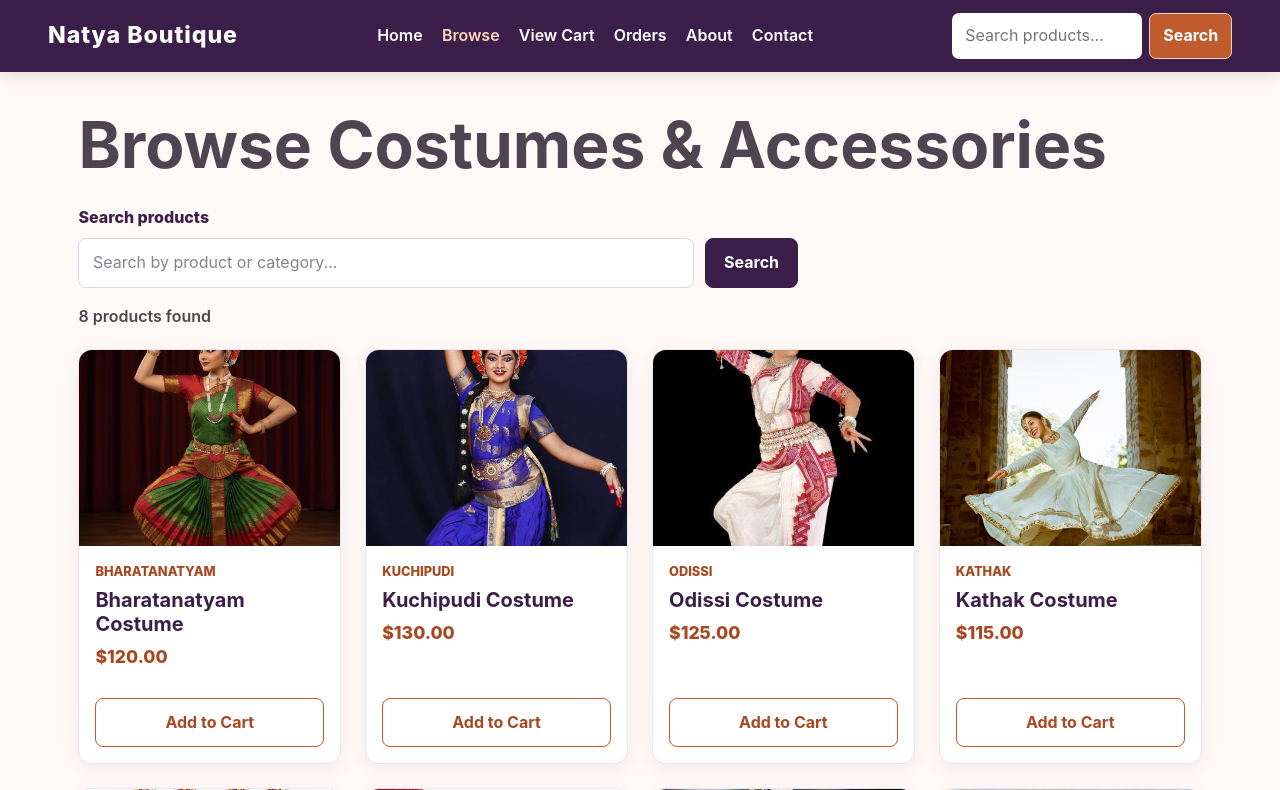
Test: Natya Boutique › filters products and explains an empty result
Type "not-a-product" into the search field with placeholder "Search by product or category..." at (386, 263), box [78,238,694,288]
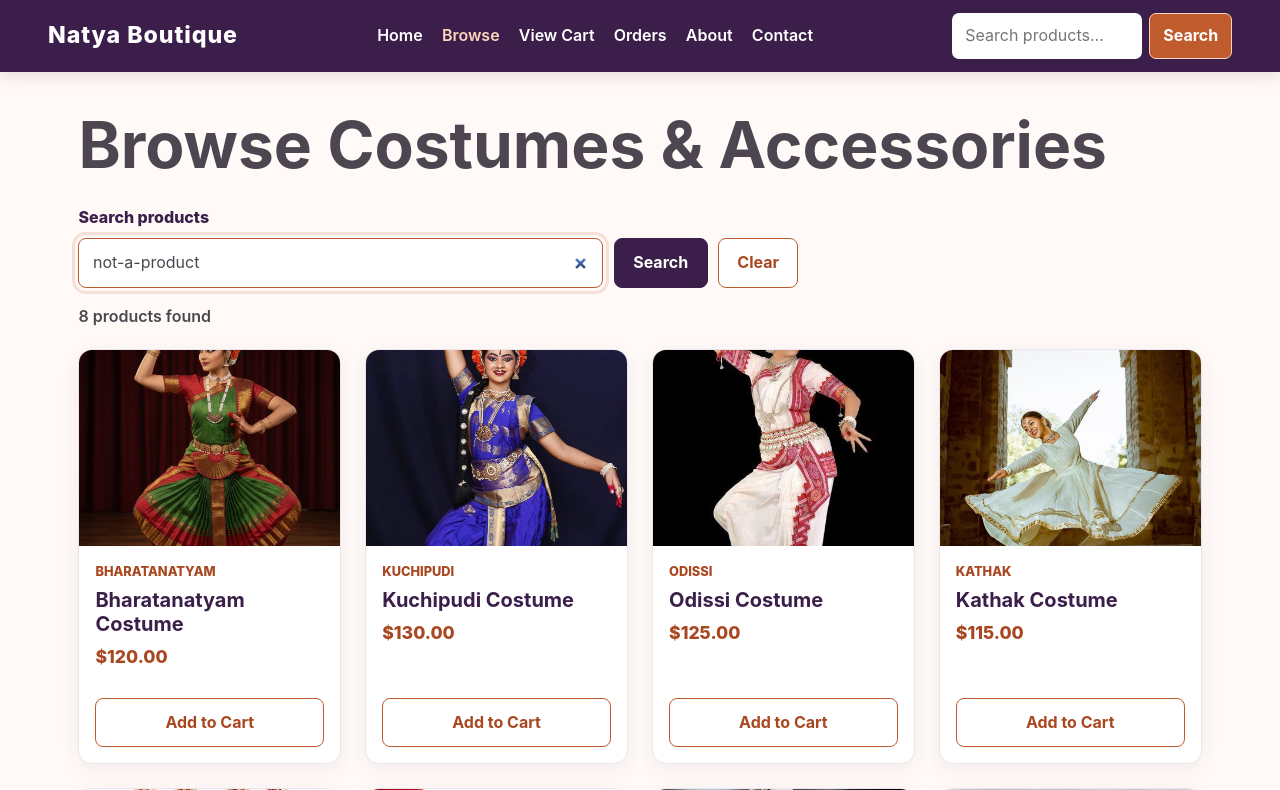
Click the button "Search" below "Browse Costumes & Accessories" at (661, 263), box [614,238,708,288]
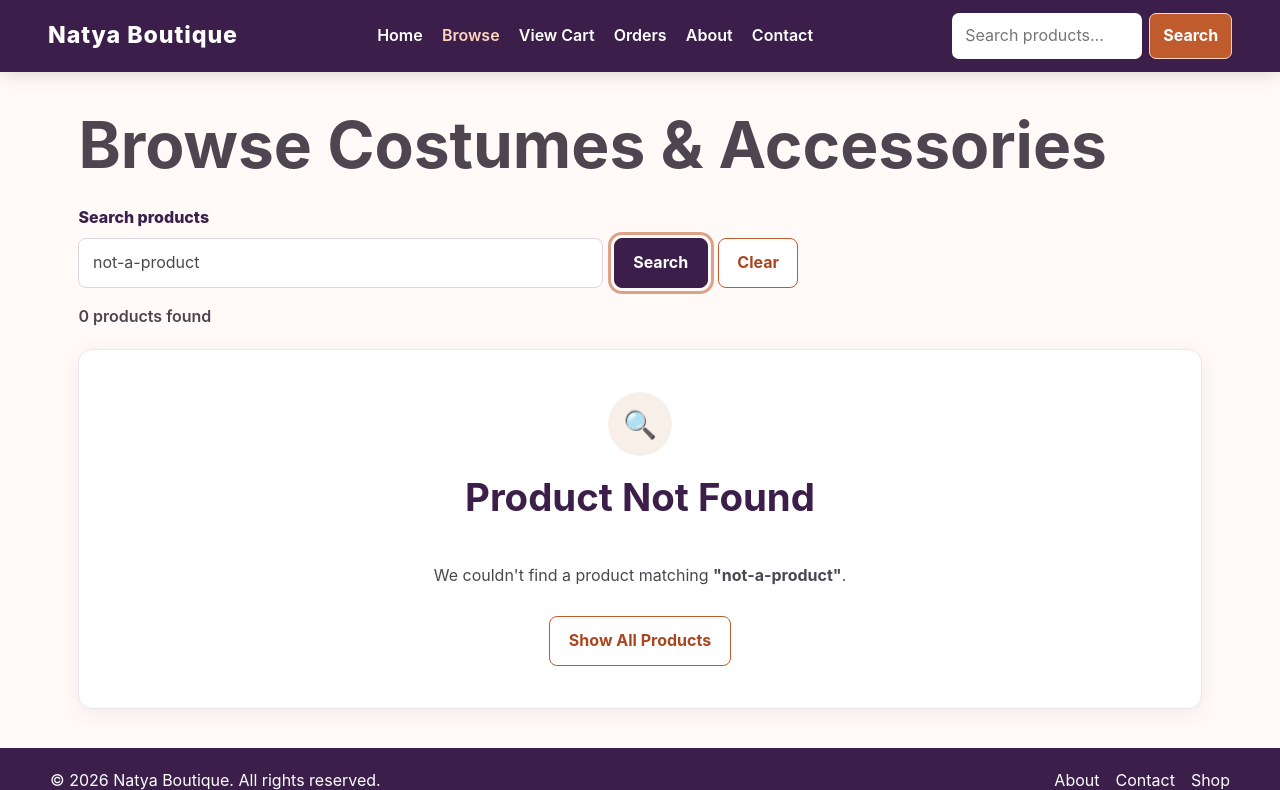
Expected: the heading "Product Not Found" is shown, [465,474,815,520]
Expected: the text "\"not-a-product\"" is shown, [713,565,842,585]
